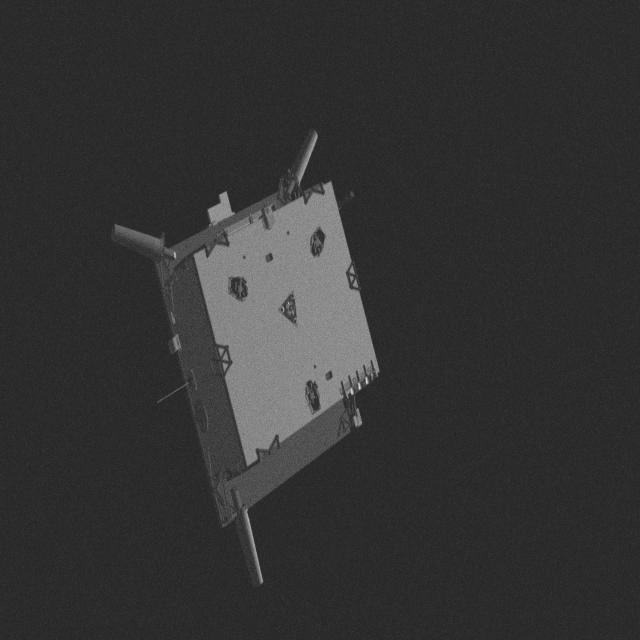satellite: (102, 124, 412, 588)
